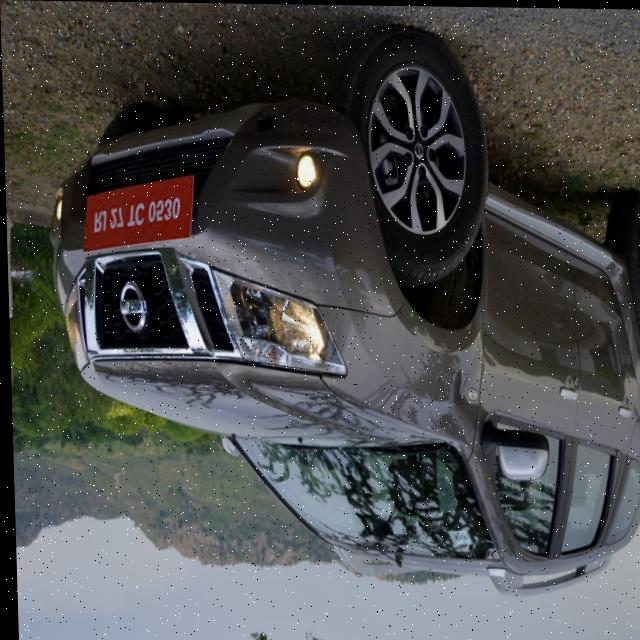plate: (80, 160, 193, 254)
